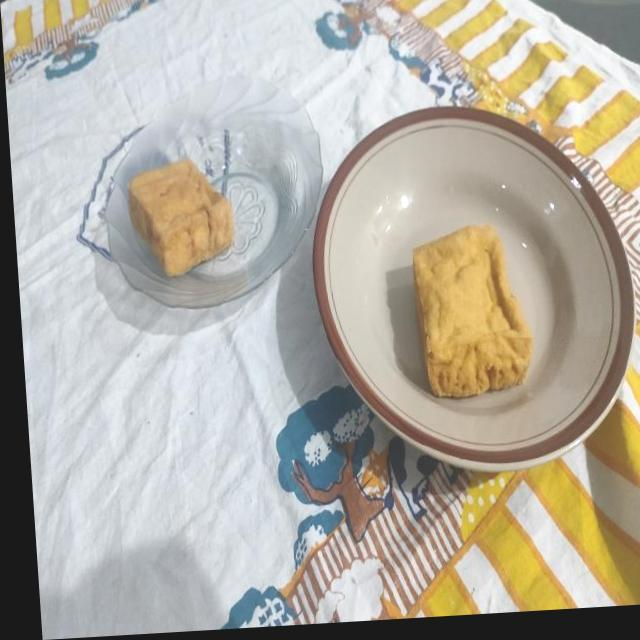tahu_goreng: (413, 225, 532, 398), (128, 158, 234, 276)
